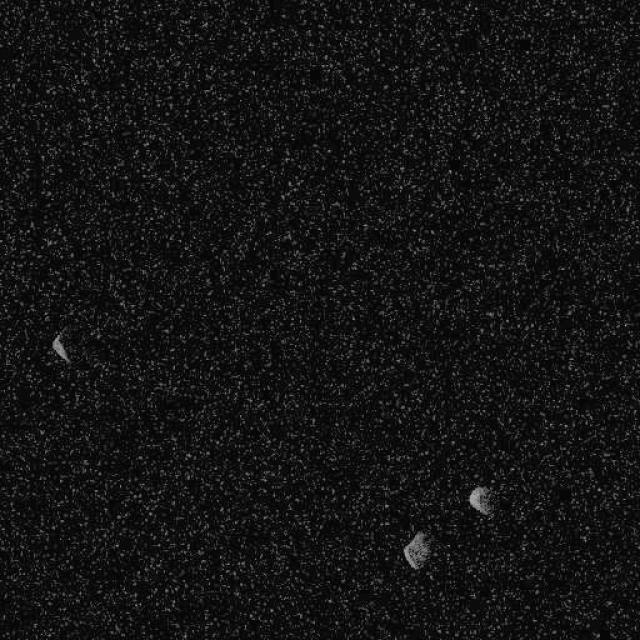D2: (401, 529, 431, 570), (468, 483, 493, 518), (50, 331, 70, 364)
